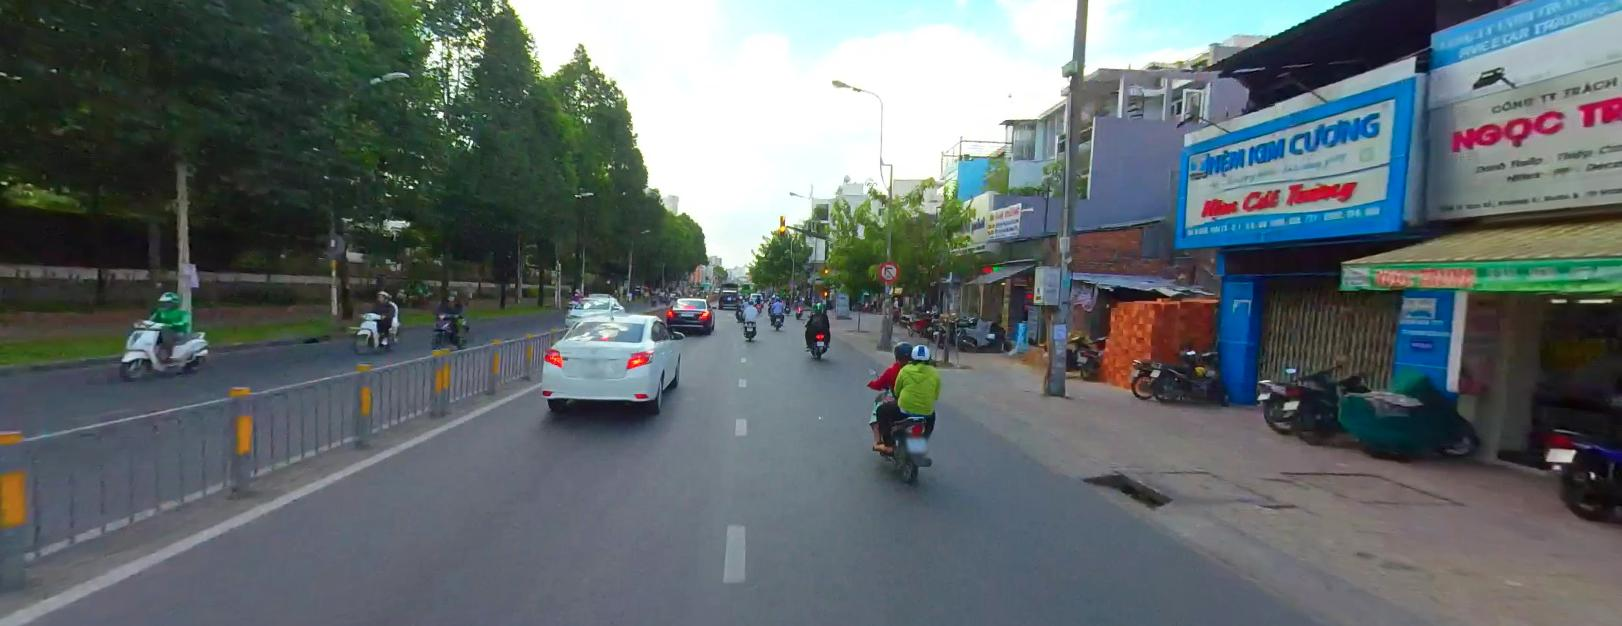Cam re: (878, 260, 898, 281)
